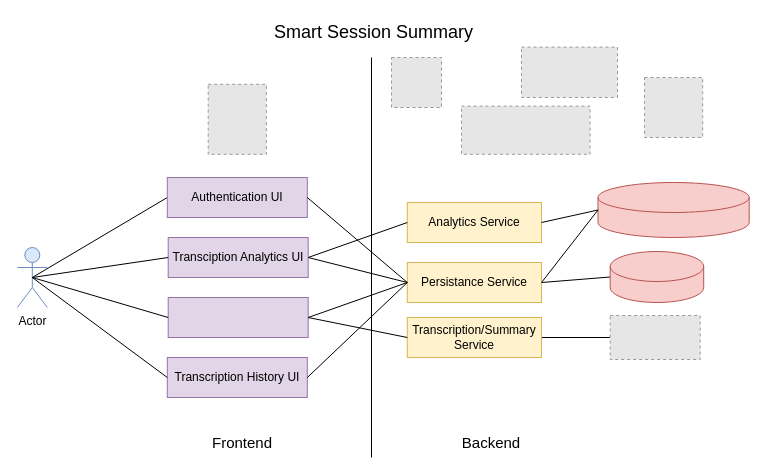
Image size: 767x476. Some labels were removed from this diagram. Grey dashed boxes stand in for pictures. Each missing label, with the centre of its shape:
Transciption Creation UI: (x=237, y=317)
Transcriptions/Summaries: (x=673, y=210)
Users: (x=656, y=276)
